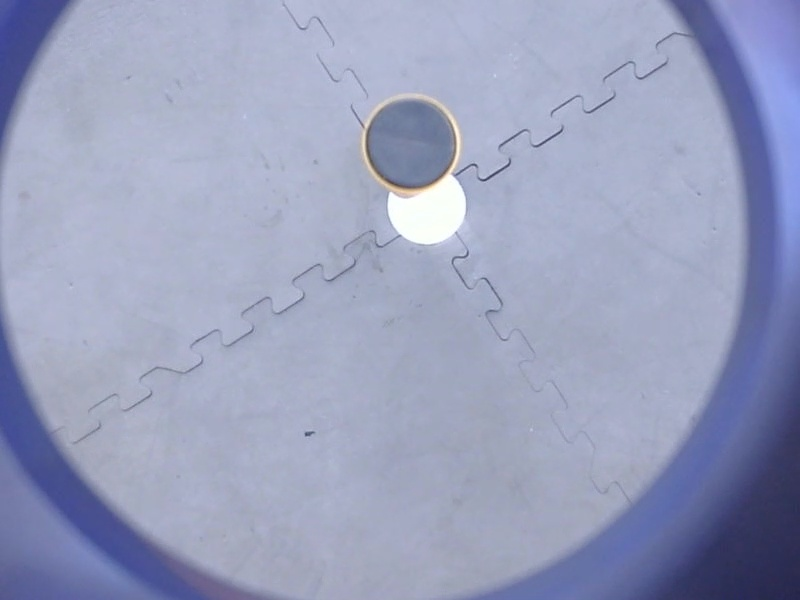tip: (354, 86, 466, 200)
